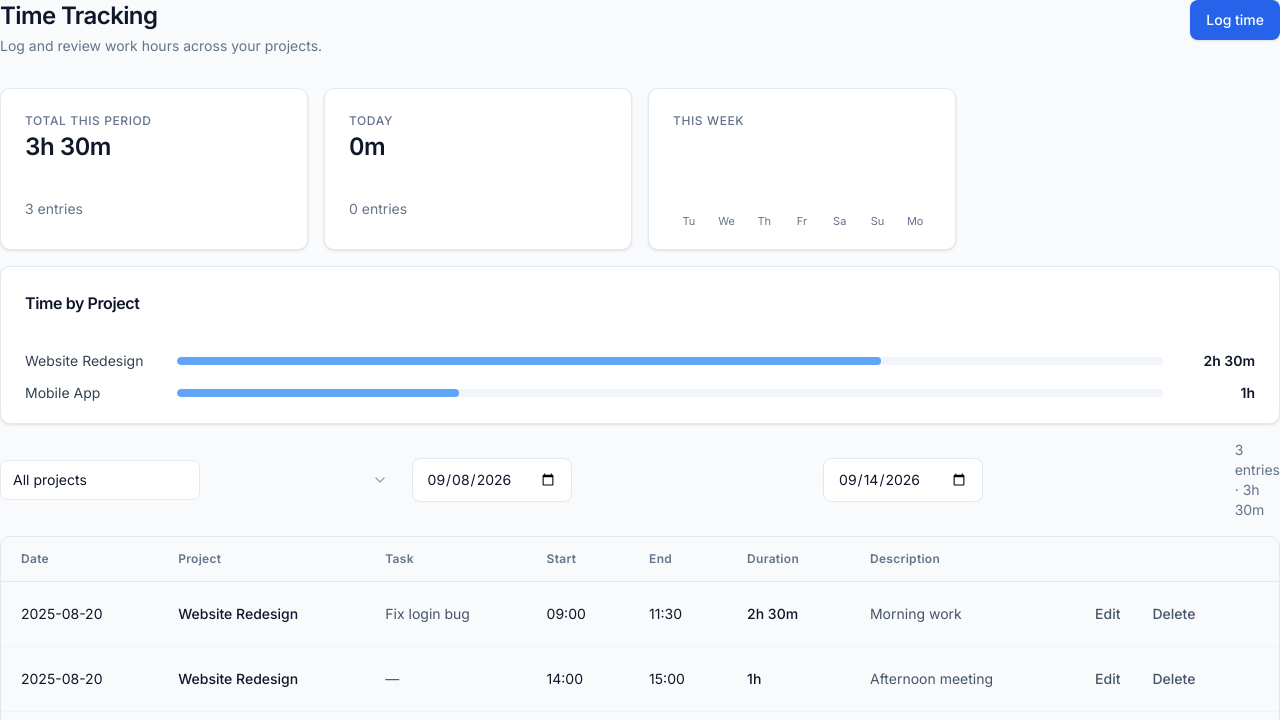
it: TimeTrackingPage › create entry › opens log time modal
Check: the text "Total This Period" is shown, box 25,113 -> 152,128
Click the button "Log time".
click(1235, 20)  # box 1190,0 -> 1279,40
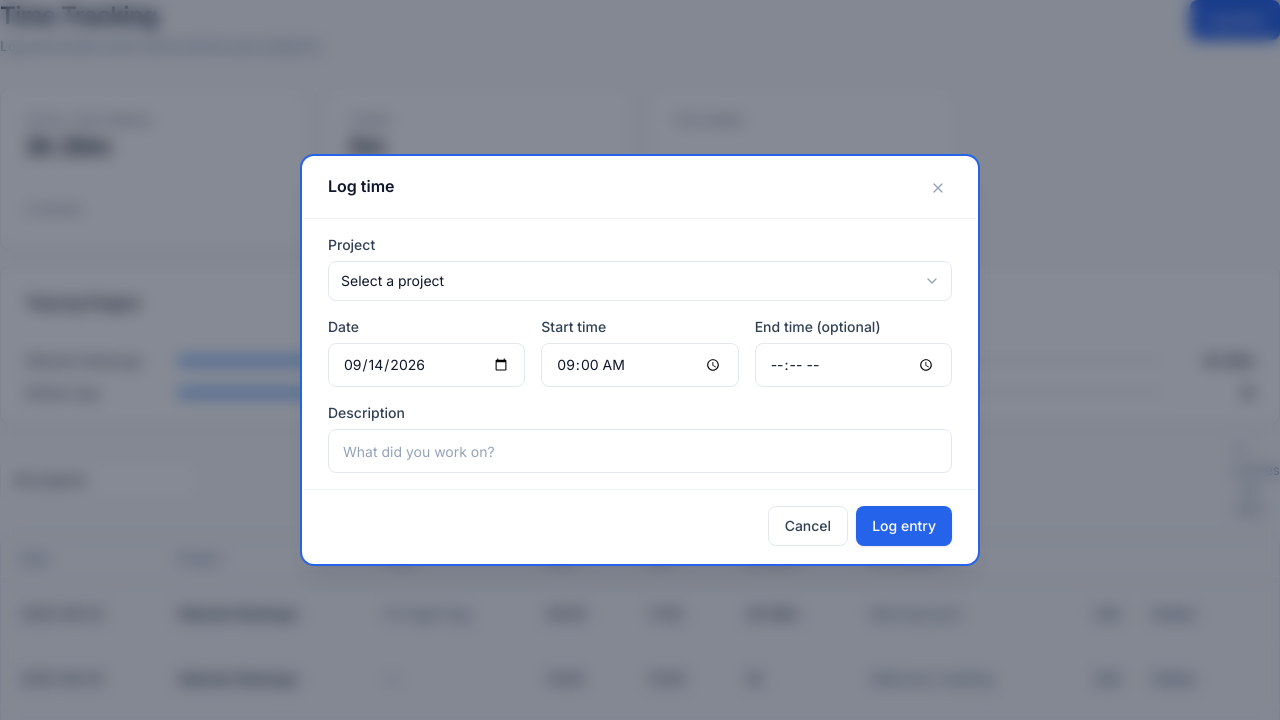
Check: the dialog is shown, box 304,158 -> 976,562
Check: the heading "Log time" is shown, box 328,174 -> 394,198
